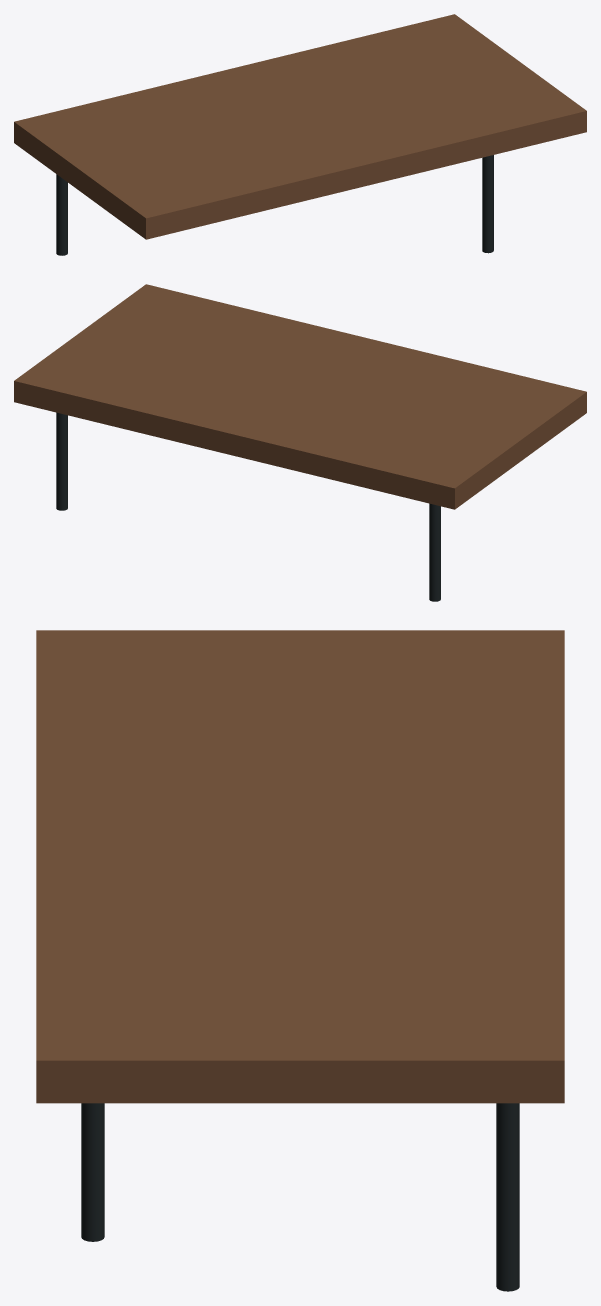
Rendered from large-nesting-table.glb.
3 views of the same model, one above another, from view 1: azimuth 30°, elevation 25°; view 2: azimuth 150°, elevation 25°; view 3: azimuth 270°, elevation 25° (orthographic). The views are drawn at different scales.
Parts seen in each view (by area): view 1: large nesting table, coffee table leg (×2); view 2: large nesting table, coffee table leg (×2); view 3: large nesting table, coffee table leg (×2).
Boxes of the visible parts, box(x1,y1,x2,y2) form: large nesting table: box(14, 14, 586, 239); coffee table leg (×2): box(56, 155, 493, 255); large nesting table: box(14, 284, 586, 509); coffee table leg (×2): box(56, 412, 440, 601); large nesting table: box(36, 630, 564, 1103); coffee table leg (×2): box(81, 1103, 519, 1291).
Bounding box in the file's own units: 2.6 × 0.73 × 1.35.
